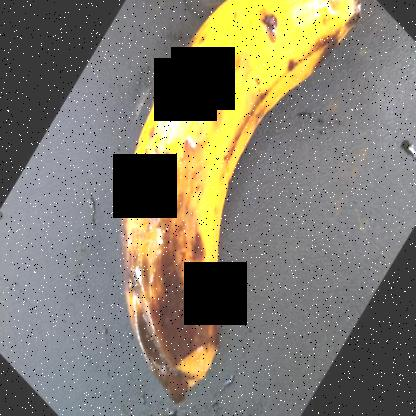ripe: (139, 0, 367, 126)
rotten: (99, 100, 255, 402)
